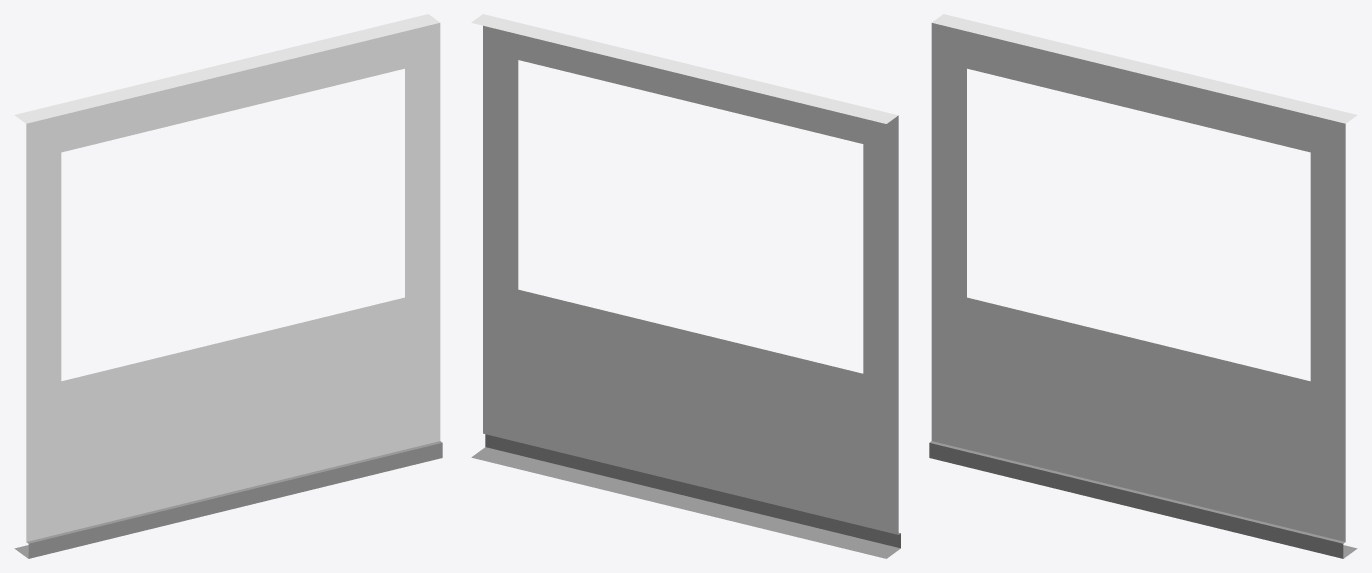
Rendered from Int-V2WindowframeWhite.fbx.
The picture shows the model from 3 angles, left to right: view 1: azimuth 30°, elevation 25°; view 2: azimuth 150°, elevation 25°; view 3: azimuth 330°, elevation 25°; orthographic projection.
Visible parts, largest first — view 1: Int-V2WindowframeWhite; view 2: Int-V2WindowframeWhite; view 3: Int-V2WindowframeWhite.
Boxes of the visible parts, x1,y1,x2,y2 form: Int-V2WindowframeWhite: (14,14,442,558); Int-V2WindowframeWhite: (471,14,900,558); Int-V2WindowframeWhite: (929,14,1357,558).
Bounding box in the file's own units: 200 × 200 × 12.
